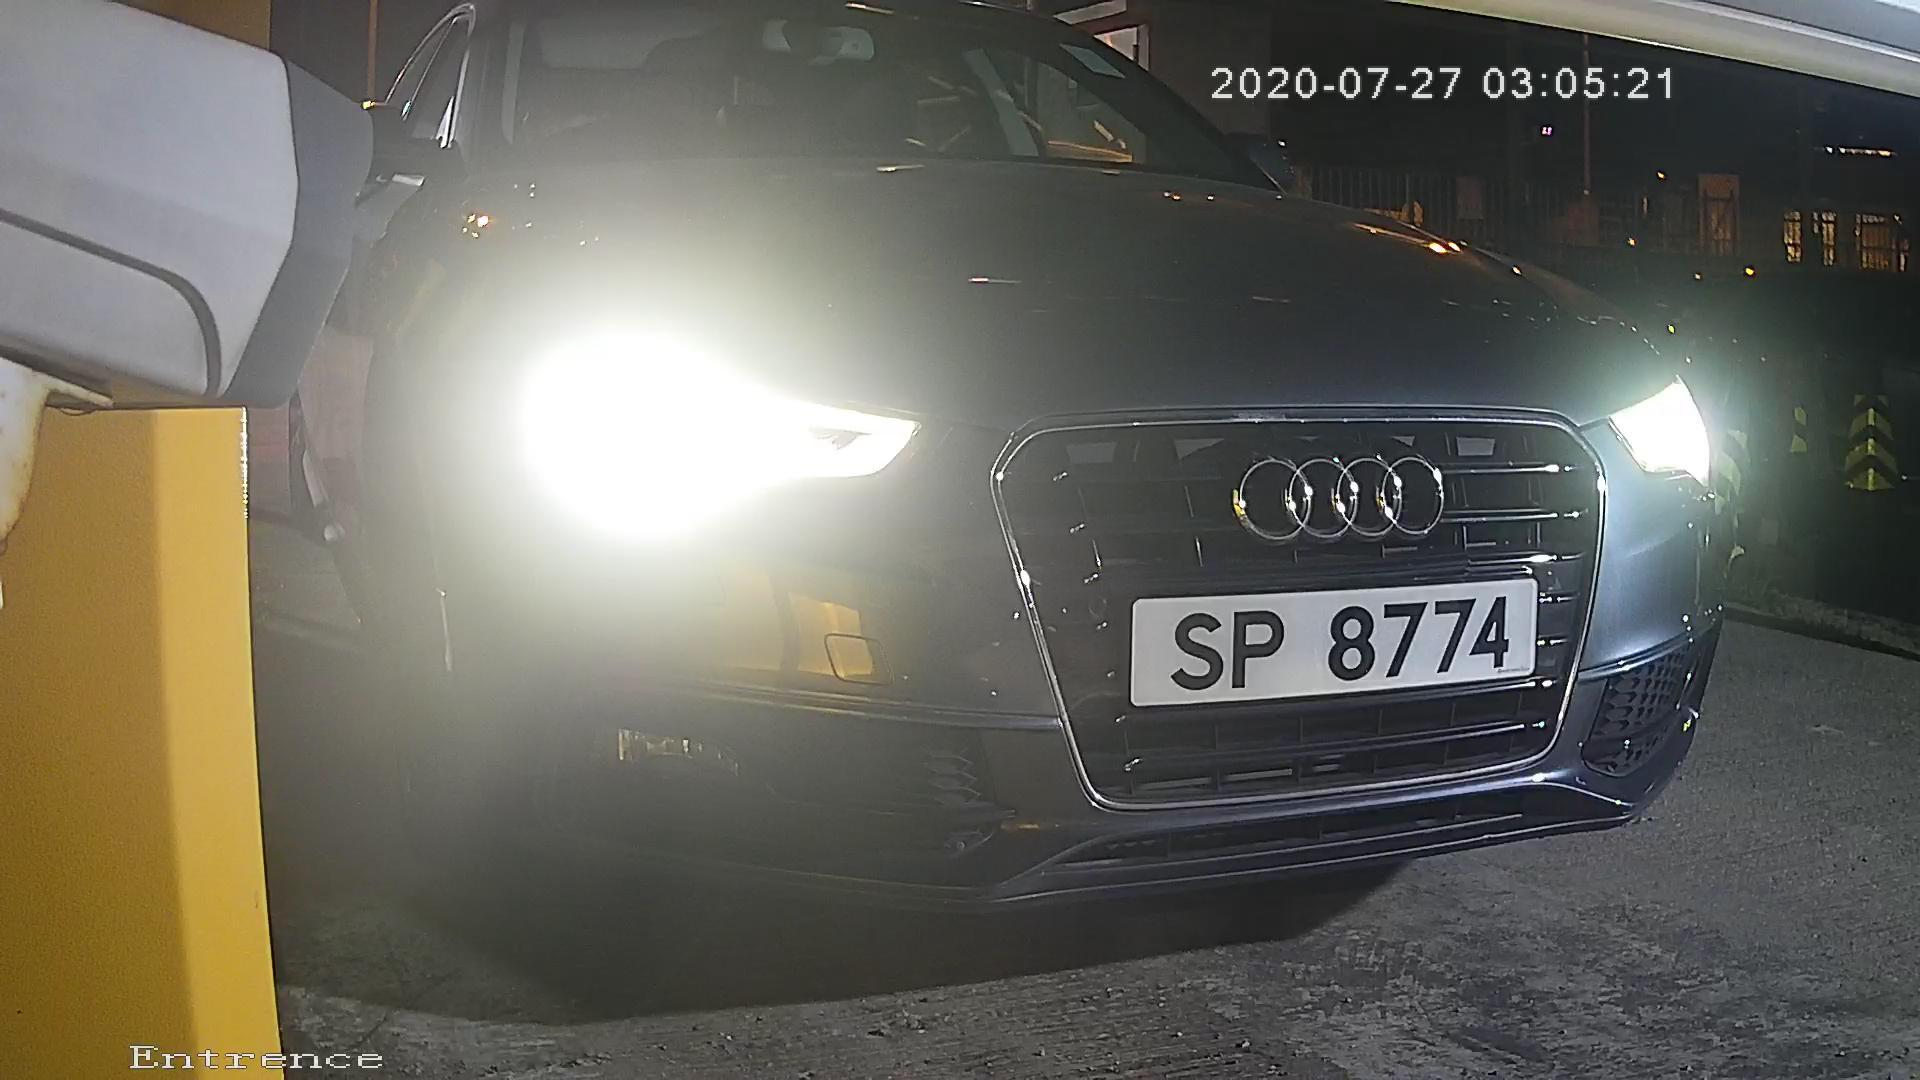Car: (129, 15, 1852, 941)
License Plate: (1106, 565, 1543, 714)
